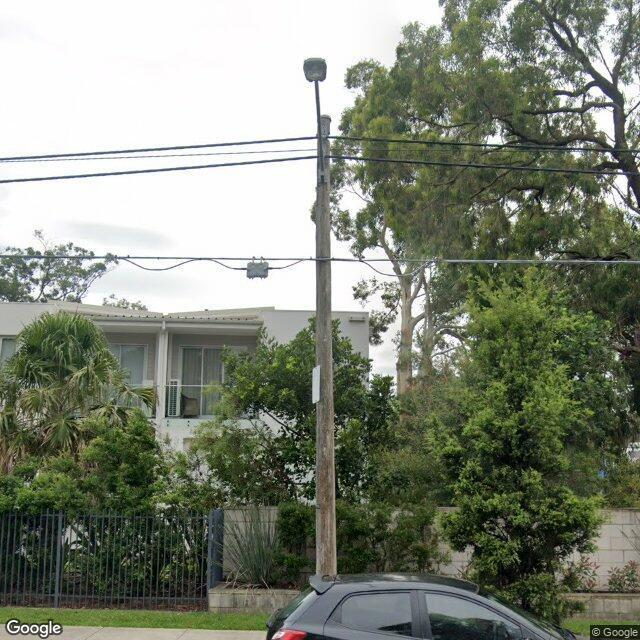streetlight: (304, 56, 327, 186)
timber-pole: (315, 115, 337, 575)
